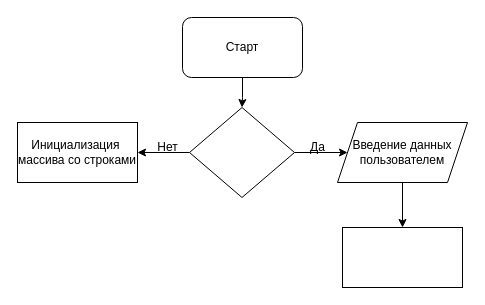
The diagram is 485 pixels wide and 305 high, and some of its shapes have lost their labels. Here are the shapes that lost their labels. From the top down, the box of each, then its label:
(188, 106, 294, 198): Будут ли вводится данные?
(342, 226, 462, 288): Запись в массив строки по разделителю
